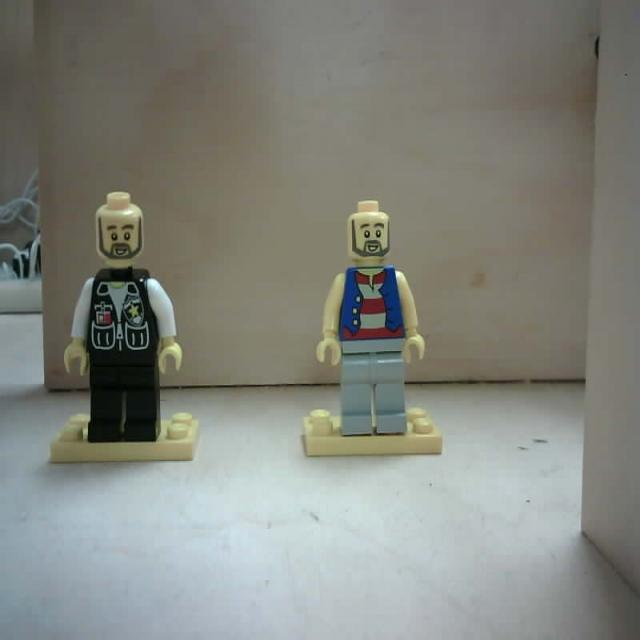Lego-People: (51, 190, 203, 462), (302, 197, 446, 460)
